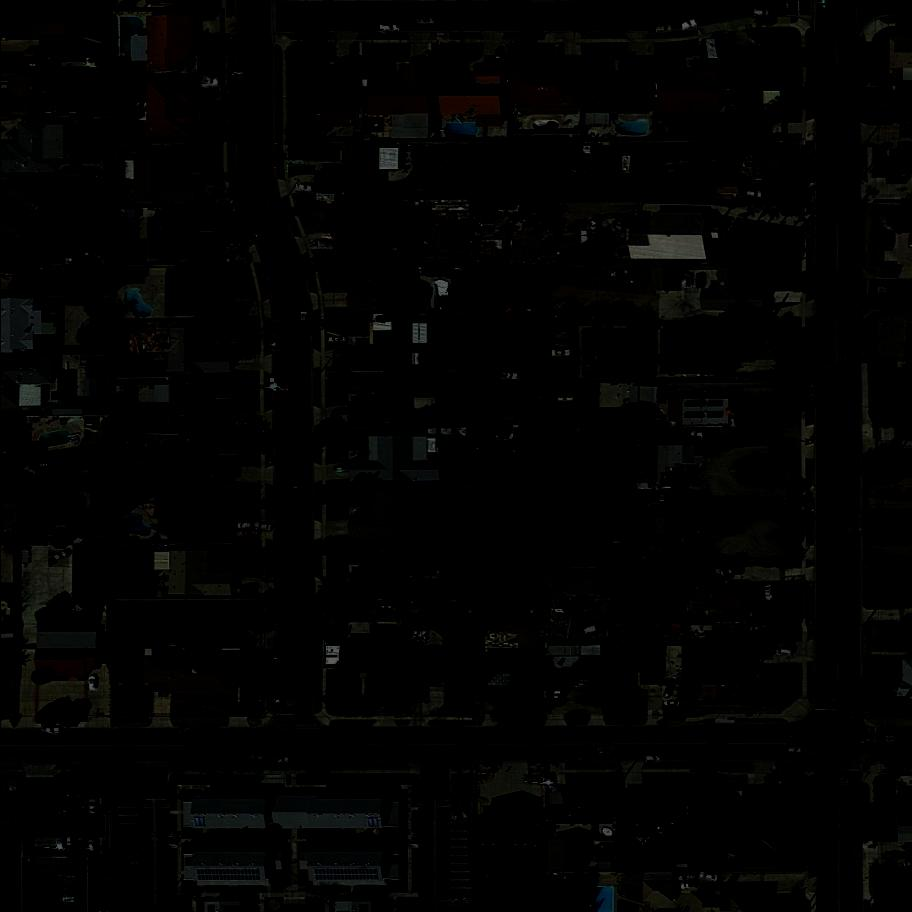large-vehicle: (581, 222, 590, 246)
small-vehicle: (49, 550, 70, 569), (22, 464, 43, 481), (662, 682, 679, 702), (414, 685, 430, 706), (705, 741, 728, 754), (234, 352, 255, 366), (200, 75, 221, 88), (583, 623, 603, 636), (526, 742, 546, 755), (699, 872, 719, 885), (683, 19, 700, 34), (692, 430, 713, 442), (41, 725, 62, 737), (864, 743, 885, 755), (775, 646, 794, 659), (350, 723, 369, 736), (571, 754, 591, 766), (349, 746, 369, 758), (200, 723, 217, 737), (504, 295, 521, 309), (681, 271, 695, 288), (269, 335, 282, 353), (684, 467, 702, 480), (244, 218, 255, 239), (519, 203, 540, 214), (444, 723, 465, 734), (860, 733, 879, 745), (236, 409, 254, 421), (240, 584, 258, 596), (544, 772, 556, 790), (685, 478, 703, 490), (195, 11, 216, 21), (554, 298, 569, 312), (254, 522, 273, 533), (450, 895, 469, 906), (554, 690, 565, 709), (178, 724, 195, 736), (234, 63, 246, 80), (656, 22, 674, 33), (311, 241, 333, 250), (615, 217, 627, 233), (590, 217, 602, 233), (68, 797, 80, 813), (713, 626, 729, 638), (547, 220, 566, 230), (500, 723, 519, 733), (784, 732, 801, 743), (275, 755, 292, 766), (24, 839, 35, 856), (198, 89, 215, 100), (765, 584, 775, 602), (500, 372, 518, 382), (752, 9, 770, 19), (663, 700, 681, 710), (451, 805, 469, 815), (120, 880, 138, 890), (774, 642, 794, 651), (749, 625, 767, 635), (333, 357, 349, 368), (732, 624, 748, 635), (44, 469, 61, 479), (246, 756, 263, 766), (60, 798, 70, 815), (348, 43, 359, 58), (262, 264, 273, 279), (305, 648, 316, 663), (681, 881, 699, 890), (883, 235, 893, 251), (89, 838, 99, 854), (228, 246, 245, 255), (292, 476, 301, 493), (333, 350, 350, 359), (679, 874, 696, 883), (488, 688, 498, 703), (739, 354, 754, 364), (79, 799, 89, 814), (89, 799, 99, 814), (886, 176, 907, 183), (453, 814, 469, 823), (300, 756, 318, 764), (475, 688, 485, 702), (305, 682, 315, 696), (297, 184, 313, 192), (784, 746, 802, 753), (553, 350, 571, 357), (848, 397, 856, 412), (273, 491, 280, 508), (306, 630, 314, 644), (89, 677, 97, 691), (882, 216, 890, 230), (641, 216, 648, 232), (56, 839, 65, 851), (747, 192, 762, 199), (334, 466, 349, 473), (302, 312, 309, 327), (721, 569, 734, 577), (335, 578, 348, 586), (765, 336, 773, 349), (417, 18, 434, 24), (329, 338, 346, 344), (271, 375, 278, 389), (78, 839, 85, 853), (697, 274, 704, 288), (882, 853, 898, 859), (381, 26, 397, 32), (274, 615, 281, 628), (500, 691, 507, 704), (275, 651, 281, 665), (358, 26, 373, 31), (496, 204, 511, 209), (600, 746, 614, 751), (238, 524, 251, 529), (67, 838, 73, 848), (646, 757, 660, 761), (555, 47, 559, 58)
